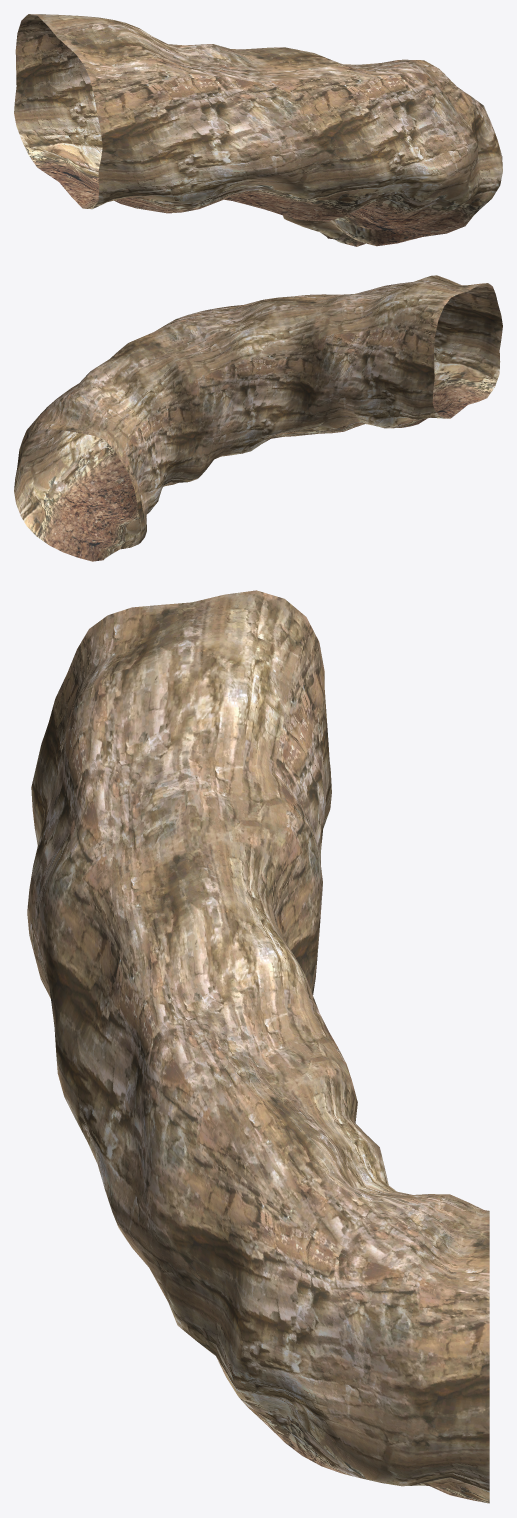
The model's file is thm_tato_cave_s01_r6_mesh_r6.fbx.
The picture shows the model from 3 angles, top to bottom: view 1: azimuth 30°, elevation 25°; view 2: azimuth 150°, elevation 25°; view 3: azimuth 270°, elevation 25°; orthographic projection. The views are drawn at different scales.
Parts seen in each view (by area): view 1: mesh_node; view 2: mesh_node; view 3: mesh_node.
Boxes of the visible parts, bbox=[...] form: mesh_node: bbox=[14, 14, 502, 246]; mesh_node: bbox=[14, 275, 502, 561]; mesh_node: bbox=[27, 590, 489, 1503].
Bounding box in the file's own units: 30.91 × 22.34 × 15.91.
